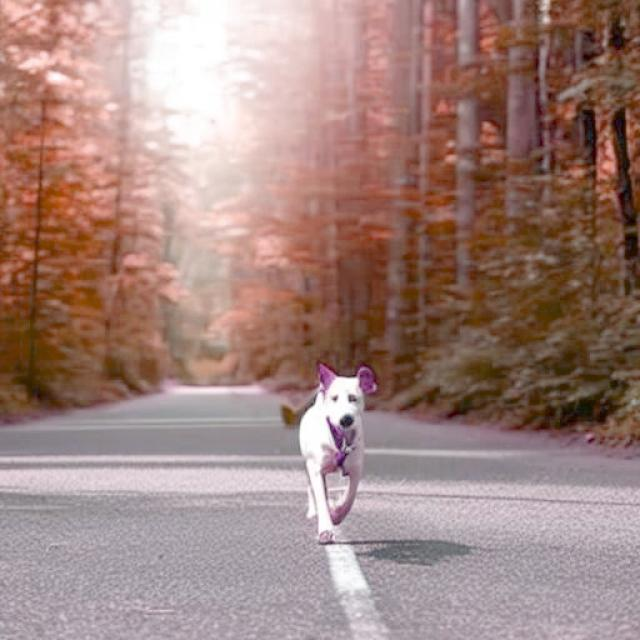Dog: (298, 362, 376, 547)
